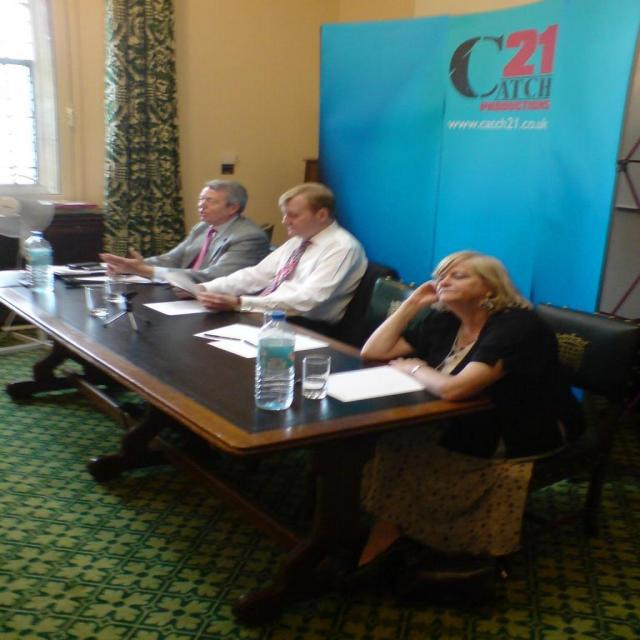chair: (288, 262, 405, 351)
desk: (0, 260, 509, 636)
person: (225, 250, 587, 628), (190, 182, 368, 324), (101, 179, 274, 291)
